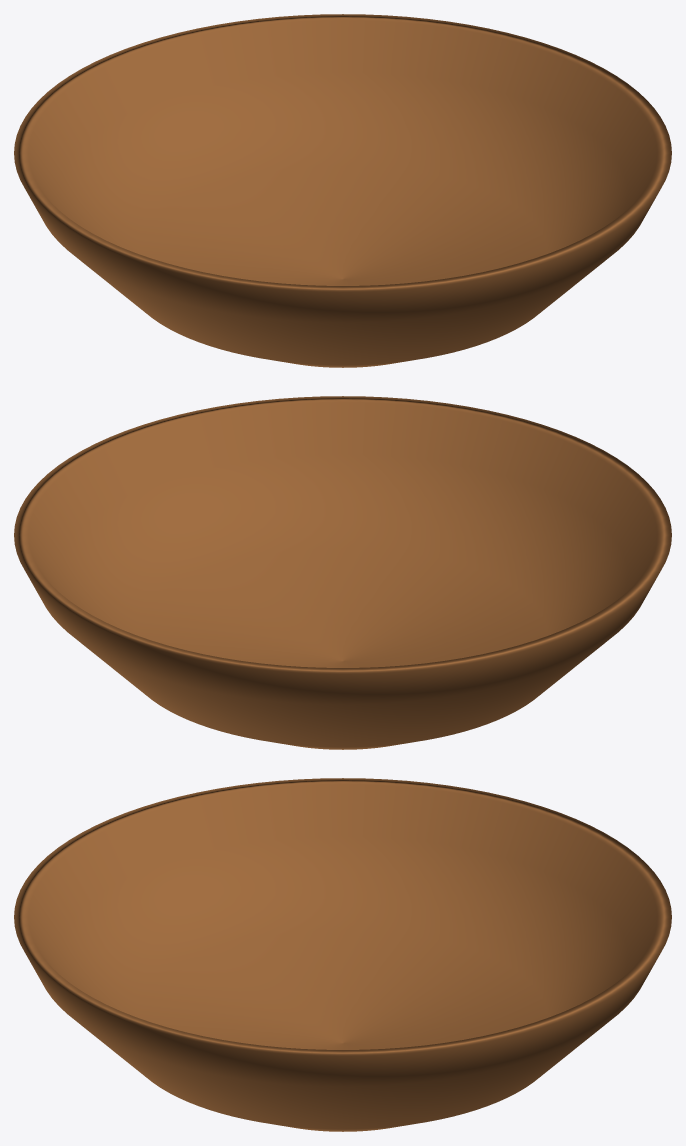
File: cr-wood-bowl.glb
3 views of the same model, one above another, from view 1: azimuth 30°, elevation 25°; view 2: azimuth 150°, elevation 25°; view 3: azimuth 270°, elevation 25° (orthographic).
Parts seen in each view (by area): view 1: cr_wood_bowl; view 2: cr_wood_bowl; view 3: cr_wood_bowl.
Part boxes in pixels (box(x1,y1,x2,y2)): cr_wood_bowl: box(14, 14, 671, 367); cr_wood_bowl: box(14, 396, 671, 749); cr_wood_bowl: box(14, 778, 671, 1131).
Bounding box in the file's own units: 0.375 × 0.1 × 0.375.
